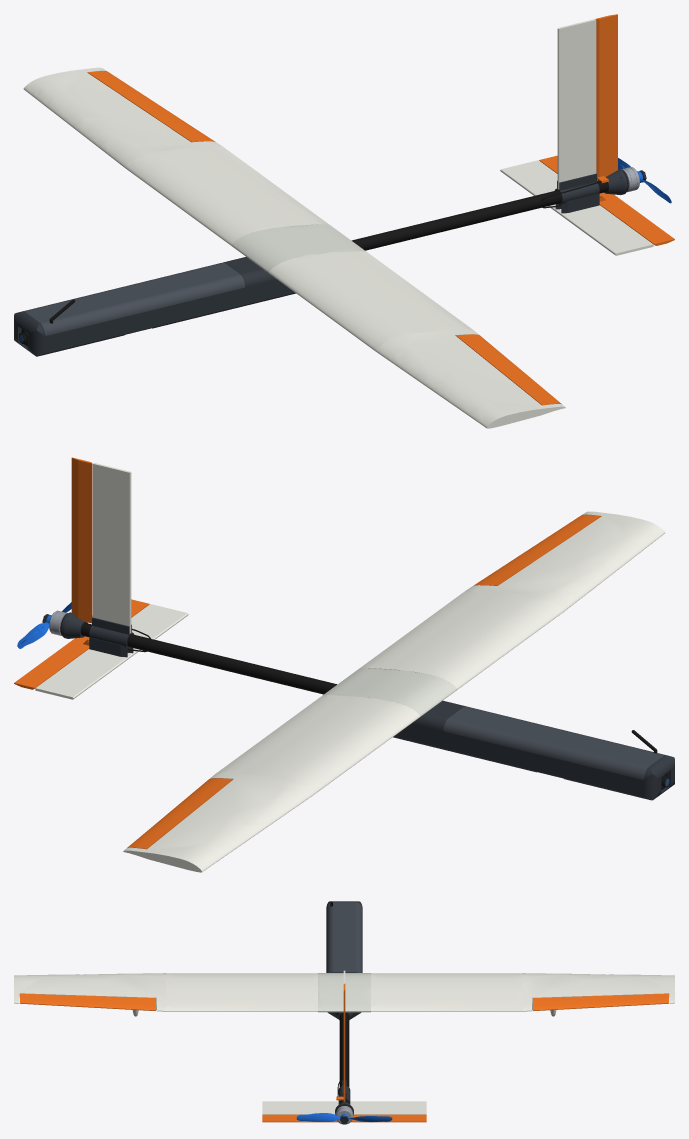
The model's file is airframe.glb.
3 views of the same model, one above another, from view 1: azimuth 30°, elevation 25°; view 2: azimuth 150°, elevation 25°; view 3: azimuth 270°, elevation 25° (orthographic). The views are drawn at different scales.
Visible parts, largest first — view 1: wing_R, wing_L, wing_outer_L, wing_outer_R, fin, lid, fuselage_front, stab, rudder, wing_centre, boom, aileron_R (+3 smaller); view 2: wing_L, wing_R, wing_outer_R, wing_outer_L, lid, fin, fuselage_front, stab, wing_centre, rudder, boom, aileron_L (+3 smaller); view 3: wing_R, wing_L, wing_outer_R, wing_outer_L, lid, wing_centre, stab, aileron_R, aileron_L, elevator, boom, prop (+1 smaller).
Boxes of the visible parts, box(x1,y1,x2,y2) form: wing_R: box(125, 146, 329, 245); wing_L: box(268, 251, 472, 350); wing_outer_L: box(375, 329, 565, 428); wing_outer_R: box(23, 67, 222, 167); fin: box(557, 19, 596, 189); lid: box(23, 262, 245, 336); fuselage_front: box(14, 257, 264, 356); stab: box(500, 160, 653, 255); rudder: box(595, 14, 617, 183); wing_centre: box(231, 224, 366, 272); boom: box(351, 180, 608, 250); aileron_R: box(87, 71, 215, 142); wing_L: box(359, 590, 563, 689); wing_R: box(215, 695, 420, 794); wing_outer_R: box(123, 773, 313, 872); wing_outer_L: box(466, 511, 665, 611); lid: box(443, 706, 665, 779); fin: box(92, 463, 131, 633); fuselage_front: box(424, 701, 674, 800); stab: box(35, 604, 188, 699); wing_centre: box(322, 668, 457, 716); rudder: box(71, 457, 92, 623); boom: box(80, 623, 336, 694); aileron_L: box(474, 514, 600, 585); wing_R: box(371, 973, 522, 1011); wing_L: box(166, 973, 317, 1011); wing_outer_R: box(523, 973, 674, 1011); wing_outer_L: box(14, 973, 165, 1011); lid: box(326, 902, 362, 972); wing_centre: box(318, 973, 370, 1012); stab: box(262, 1101, 426, 1114); aileron_R: box(533, 993, 668, 1010); aileron_L: box(20, 993, 155, 1010); elevator: box(262, 1114, 426, 1122); boom: box(339, 1012, 349, 1103); prop: box(296, 1113, 392, 1122).
Bounding box in the file's own units: 0.5428 × 0.1583 × 0.7.
